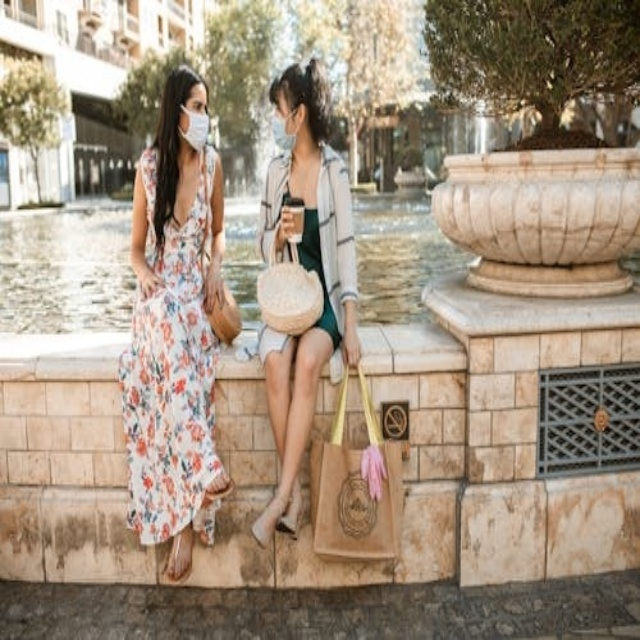Mascara: (178, 105, 210, 151), (271, 109, 299, 153)
Sin_guantes: (198, 256, 230, 315), (269, 206, 297, 248), (133, 259, 160, 302), (340, 317, 362, 369)
